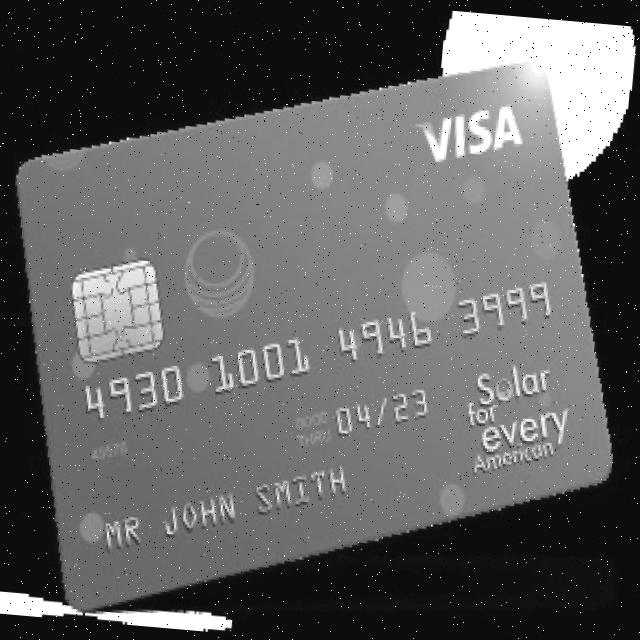card: (17, 61, 616, 614)
